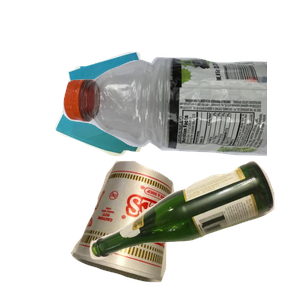glass: (87, 158, 300, 300)
paper: (52, 49, 209, 198)
plastic: (60, 53, 300, 201)
trash: (68, 158, 235, 300)
